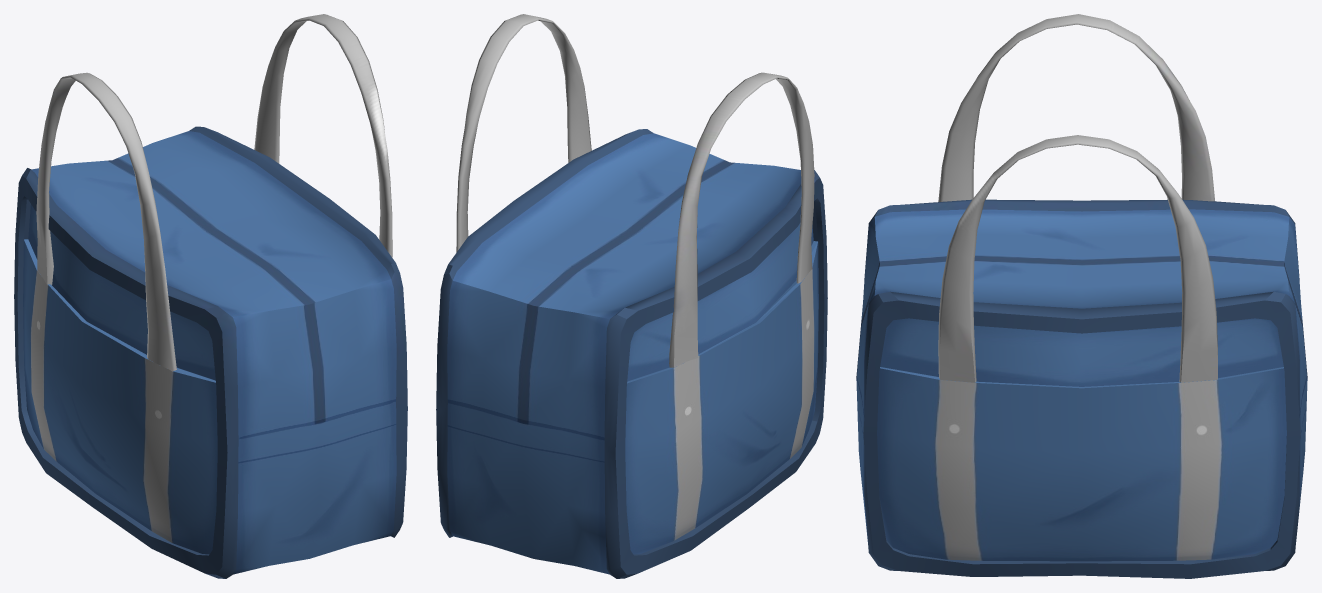
File: schoolbag.fbx
3 renders of one model, left to right at view 1: azimuth 30°, elevation 25°; view 2: azimuth 150°, elevation 25°; view 3: azimuth 270°, elevation 25°, orthographic. The views are drawn at different scales.
Visible parts, largest first — view 1: bag, handle1, handle2; view 2: bag, handle1, handle2; view 3: bag, handle2, handle1.
Part boxes in pixels (x1,y1,x2,y2): bag: (14, 126, 407, 578); handle1: (36, 72, 176, 371); handle2: (254, 14, 392, 257); bag: (436, 129, 827, 578); handle1: (669, 72, 814, 367); handle2: (456, 14, 591, 252); bag: (856, 199, 1307, 578); handle2: (938, 135, 1217, 382); handle1: (938, 14, 1214, 201).
Size of the model in its own units: 44.79 by 72.08 by 65.52.
1 material, 1 textured.
